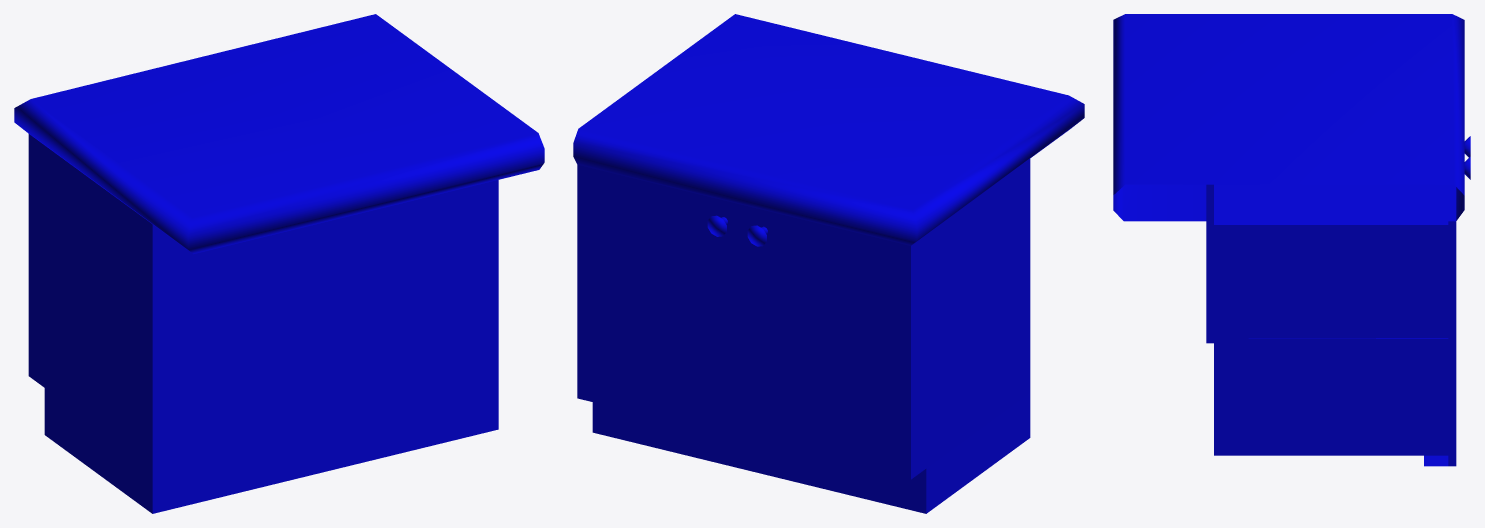
Rendered from Object_IslandCounterLeft.fbx.
The picture shows the model from 3 angles, left to right: view 1: azimuth 30°, elevation 25°; view 2: azimuth 150°, elevation 25°; view 3: azimuth 270°, elevation 25°; orthographic projection. The views are drawn at different scales.
Parts seen in each view (by area): view 1: IslandCounterLeft_Body_LOW, IslandCounterLeft_RightDoor_LOW; view 2: IslandCounterLeft_Body_LOW, IslandCounterLeft_RightDoor_LOW, IslandCounterLeft_LeftDoor_LOW; view 3: IslandCounterLeft_Body_LOW, IslandCounterLeft_LeftDoor_LOW.
Boxes of the visible parts, bbox=[...] form: IslandCounterLeft_Body_LOW: bbox=[14, 14, 544, 513]; IslandCounterLeft_RightDoor_LOW: bbox=[28, 134, 32, 378]; IslandCounterLeft_Body_LOW: bbox=[573, 14, 1084, 513]; IslandCounterLeft_RightDoor_LOW: bbox=[744, 205, 914, 479]; IslandCounterLeft_LeftDoor_LOW: bbox=[577, 164, 743, 438]; IslandCounterLeft_Body_LOW: bbox=[1113, 14, 1464, 466]; IslandCounterLeft_LeftDoor_LOW: bbox=[1448, 156, 1470, 466].
Bounding box in the file's own units: 1.03 × 0.9 × 0.8855.
